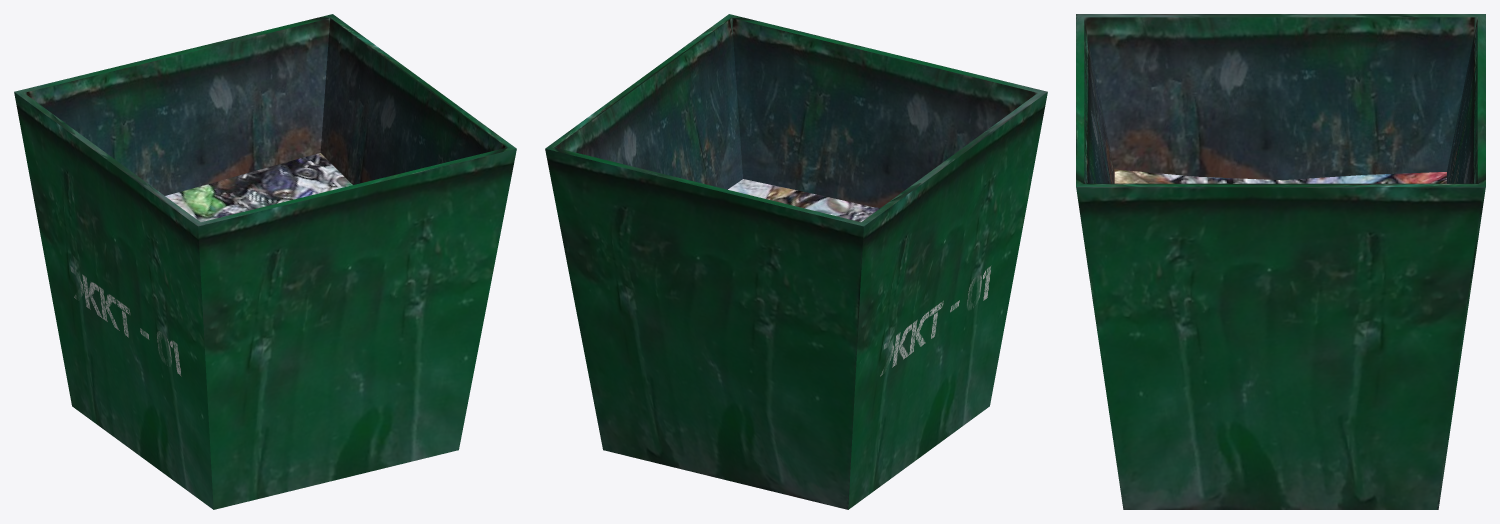
File: sovietDumpster02.fbx
3 renders of one model, left to right at view 1: azimuth 30°, elevation 25°; view 2: azimuth 150°, elevation 25°; view 3: azimuth 270°, elevation 25°, orthographic. The views are drawn at different scales.
Parts seen in each view (by area): view 1: Cube; view 2: Cube; view 3: Cube.
Part boxes in pixels (box(x1,y1,x2,y2)): Cube: box(14, 14, 516, 509); Cube: box(545, 14, 1047, 509); Cube: box(1076, 14, 1485, 509).
Size of the model in its own units: 260 by 240 by 260.
